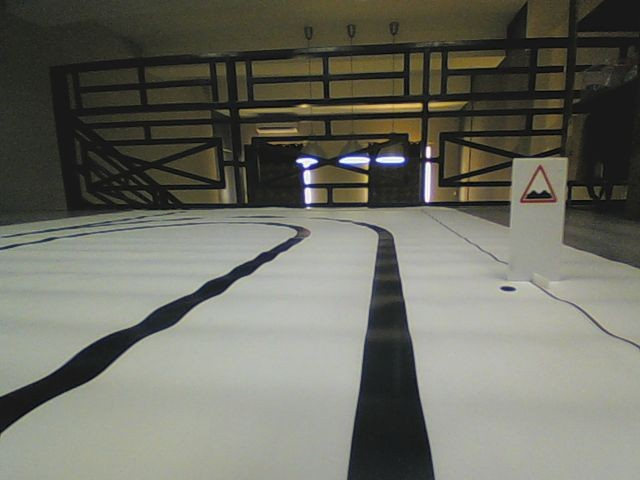Nerov: (519, 163, 557, 205)
